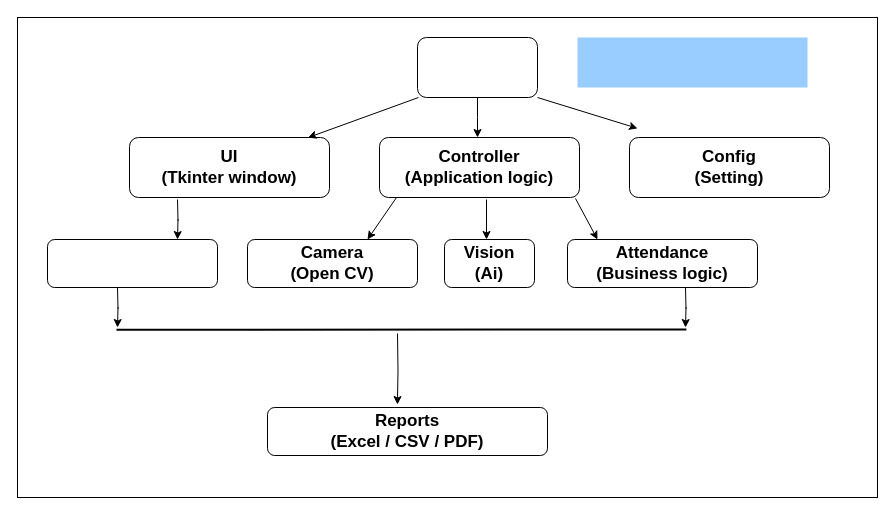
This 895x515 diagram has some shape labels left out. Each missing label, with the centre of its shape:
"Database (Sqlite)" goes at pixel 132 263.
"main.py" goes at pixel 477 67.
"Software architecture" goes at pixel 692 62.
